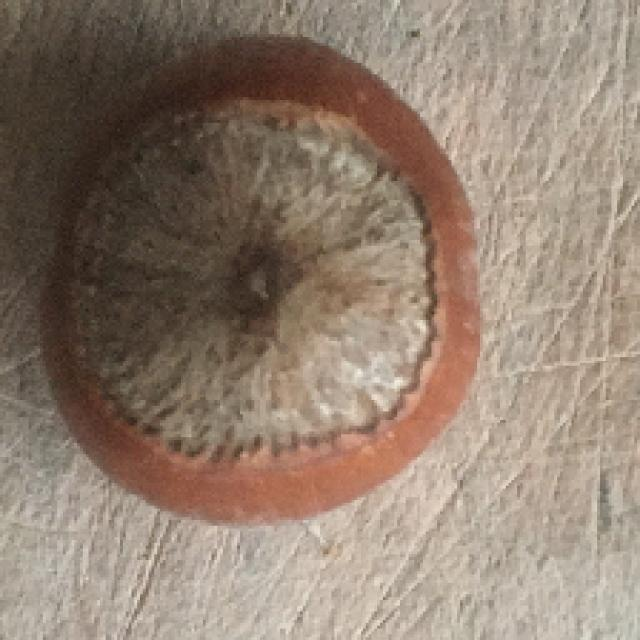QualityHazelnut: (40, 32, 483, 529)
